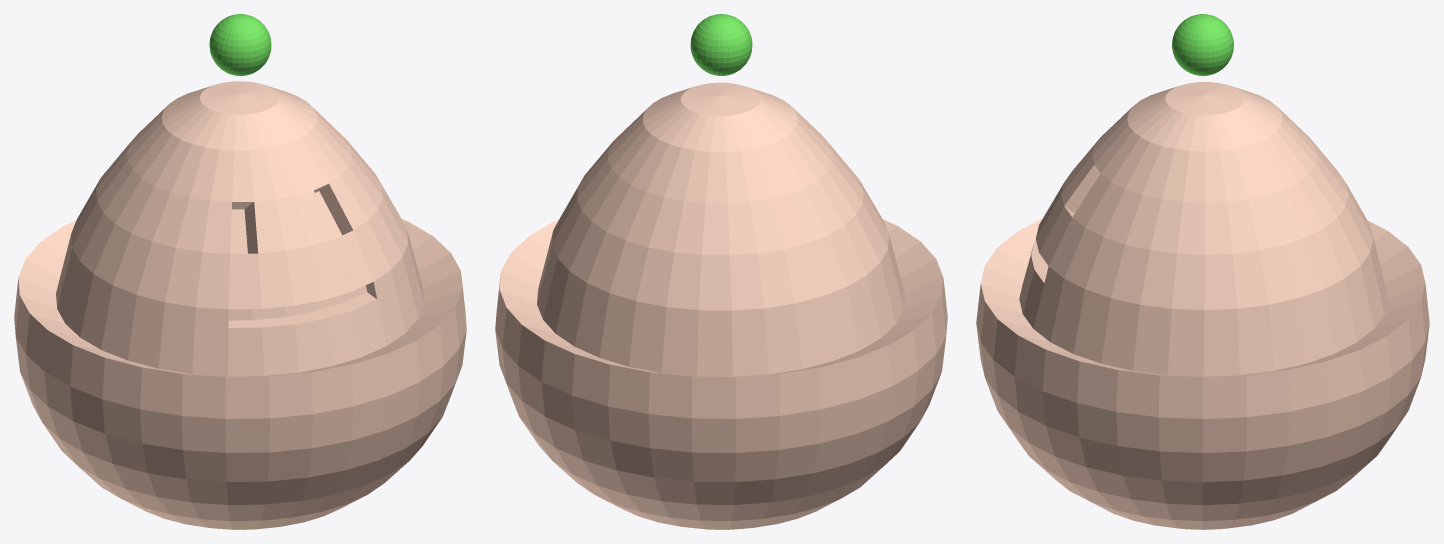
The model's file is version0.glb.
3 views of the same model, side by side, from view 1: azimuth 30°, elevation 25°; view 2: azimuth 150°, elevation 25°; view 3: azimuth 270°, elevation 25° (orthographic).
Parts seen in each view (by area): view 1: Sphere, Sphere.001; view 2: Sphere, Sphere.001; view 3: Sphere, Sphere.001.
Boxes of the visible parts, box(x1,y1,x2,y2) form: Sphere: box(14, 81, 466, 529); Sphere.001: box(209, 14, 271, 75); Sphere: box(495, 82, 947, 529); Sphere.001: box(690, 14, 752, 75); Sphere: box(976, 82, 1429, 529); Sphere.001: box(1172, 14, 1233, 75).
Bounding box in the file's own units: 2.23 × 2.67 × 2.23.
